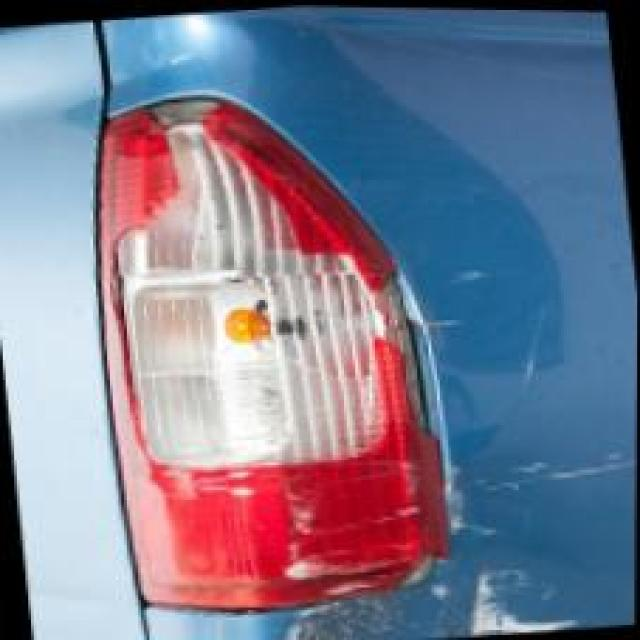Light: (73, 42, 469, 624)
